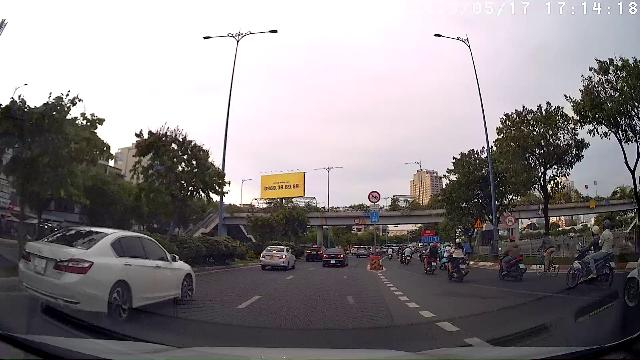103a-cam-oto: (505, 215, 516, 226)
